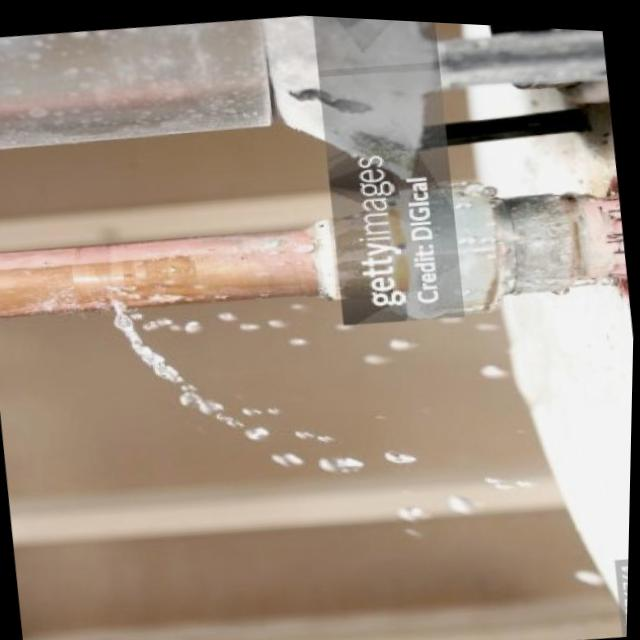leak: (113, 301, 186, 384), (194, 390, 212, 411)
